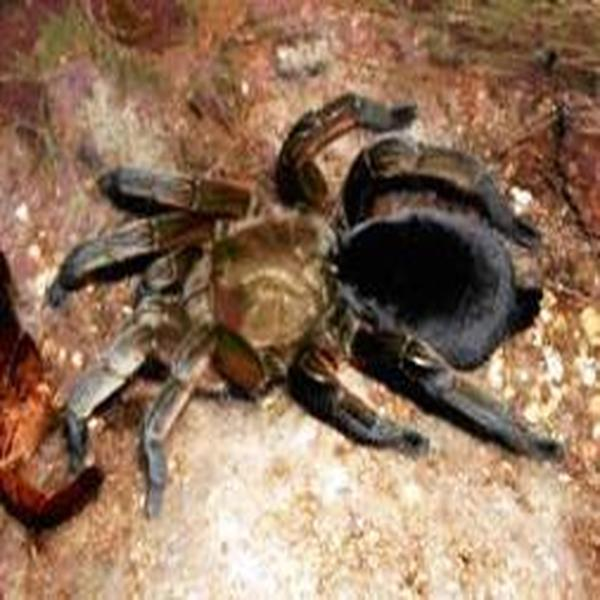Tarantula Spider: (75, 100, 548, 480)
